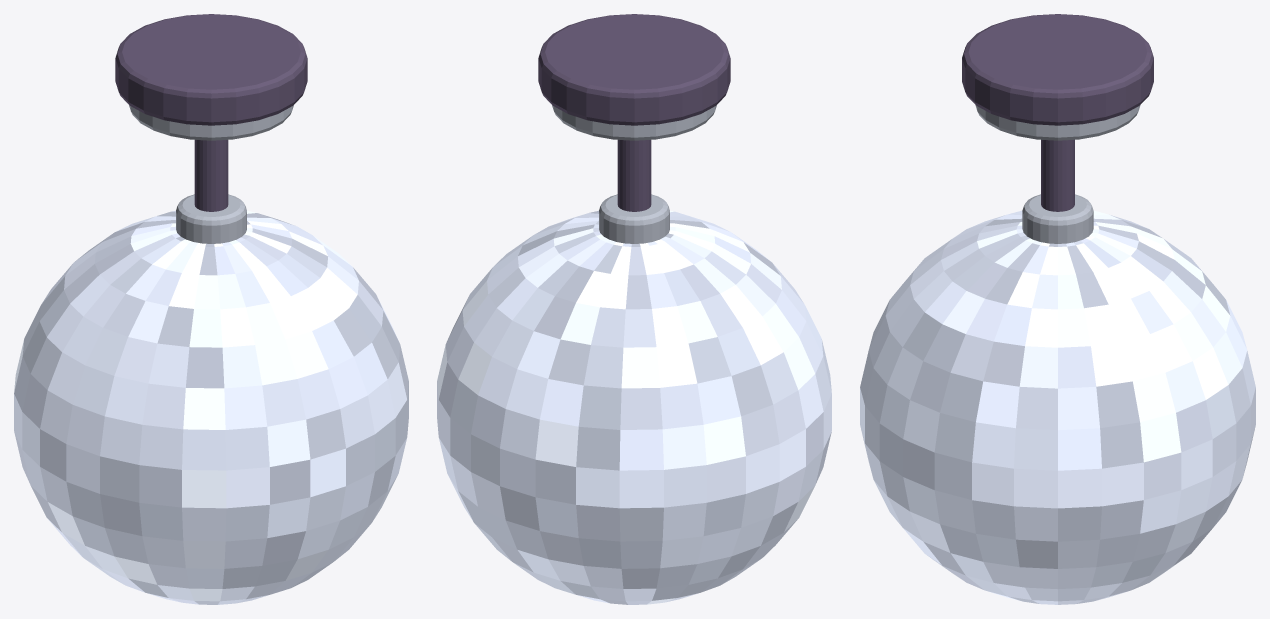
File: light_disco.glb
3 renders of one model, left to right at view 1: azimuth 30°, elevation 25°; view 2: azimuth 150°, elevation 25°; view 3: azimuth 270°, elevation 25°, orthographic.
Parts seen in each view (by area): view 1: Pauli disco rotor, Canopla, Aro da canopla; view 2: Pauli disco rotor, Canopla, Aro da canopla; view 3: Pauli disco rotor, Canopla, Aro da canopla.
Part boxes in pixels (x1=…): Pauli disco rotor: x1=14, y1=210, x2=408, y2=604; Canopla: x1=115, y1=14, x2=307, y2=211; Aro da canopla: x1=129, y1=105, x2=293, y2=243; Pauli disco rotor: x1=437, y1=210, x2=831, y2=604; Canopla: x1=538, y1=14, x2=730, y2=211; Aro da canopla: x1=552, y1=105, x2=716, y2=243; Pauli disco rotor: x1=860, y1=210, x2=1255, y2=604; Canopla: x1=962, y1=14, x2=1153, y2=211; Aro da canopla: x1=975, y1=105, x2=1140, y2=243.
Size of the model in its own units: 0.8453 by 1.26 by 0.8453.
